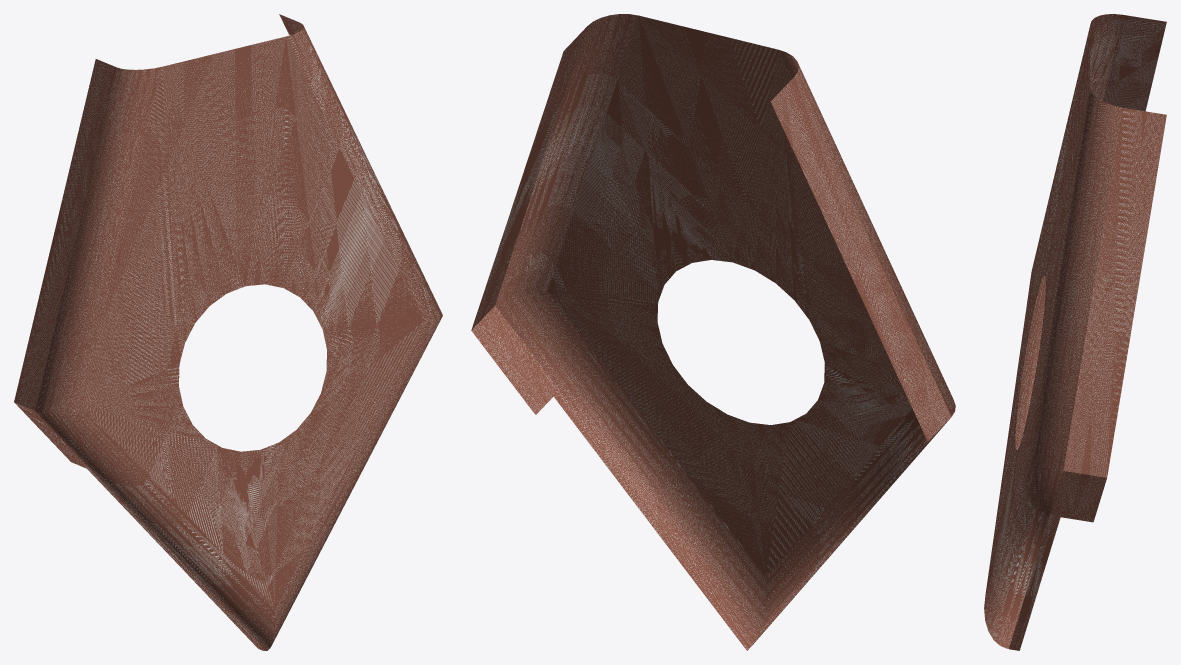
File: original-1.obj
3 views of the same model, side by side, from view 1: azimuth 30°, elevation 25°; view 2: azimuth 150°, elevation 25°; view 3: azimuth 270°, elevation 25° (orthographic). The views are drawn at different scales.
Visible parts, largest first — view 1: 3dw.e450a063965ce182372d50f0ef237781/Model/mesh1/mesh1-geometry/; view 2: 3dw.e450a063965ce182372d50f0ef237781/Model/mesh1/mesh1-geometry/; view 3: 3dw.e450a063965ce182372d50f0ef237781/Model/mesh1/mesh1-geometry/.
Boxes of the visible parts, x1,y1,x2,y2 form: 3dw.e450a063965ce182372d50f0ef237781/Model/mesh1/mesh1-geometry/: (14,14,442,650); 3dw.e450a063965ce182372d50f0ef237781/Model/mesh1/mesh1-geometry/: (471,14,955,650); 3dw.e450a063965ce182372d50f0ef237781/Model/mesh1/mesh1-geometry/: (984,14,1166,650).
Size of the model in its own units: 0.1396 by 0.1889 by 0.0526.
